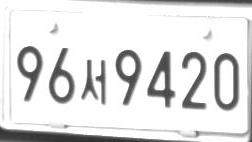0: (213, 52, 240, 111)
2: (181, 51, 207, 109)
4: (146, 50, 175, 107)
6: (48, 47, 75, 104)
9: (16, 45, 43, 102), (115, 48, 141, 105)
서: (80, 59, 106, 105)
